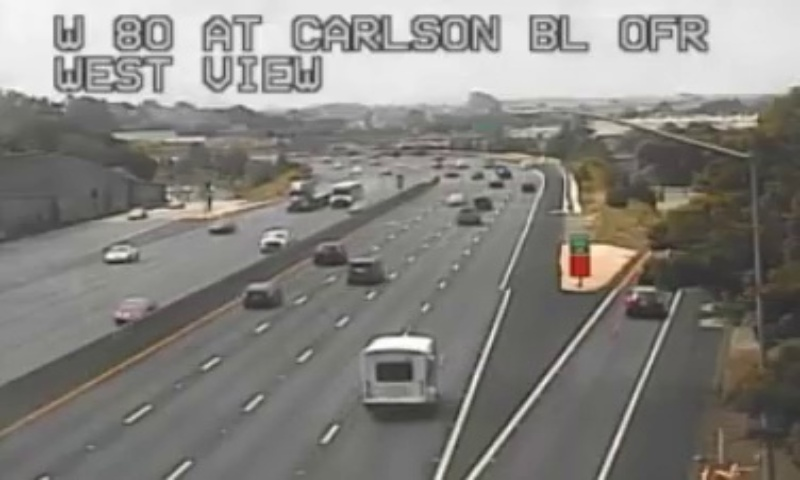bus: (359, 335, 438, 407)
car: (244, 283, 280, 308), (312, 241, 346, 267), (346, 259, 380, 283)
